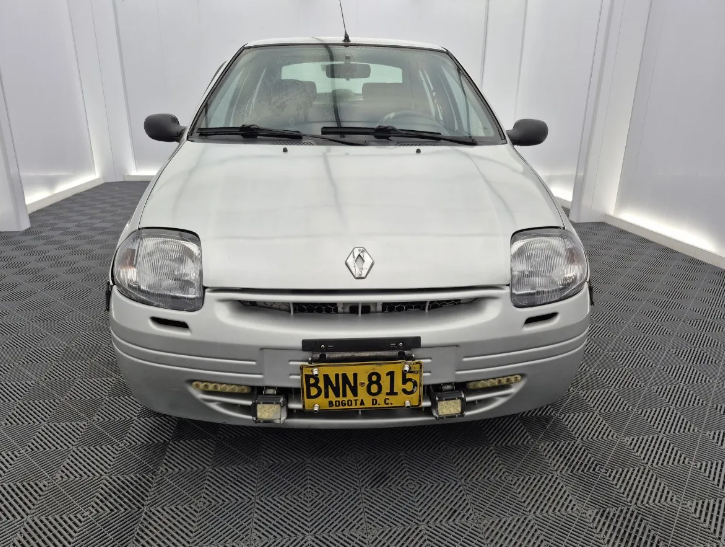placa: (301, 365, 422, 407)
